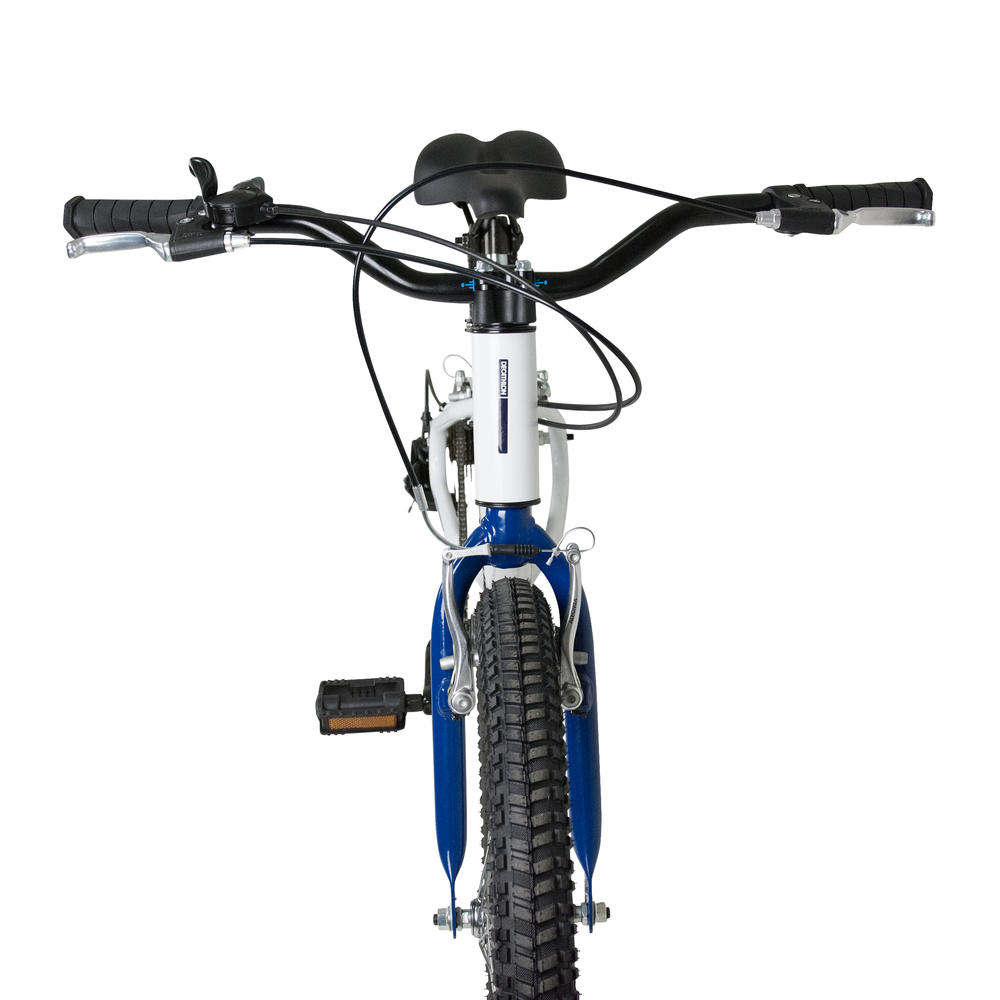Kids_bicycle: (59, 114, 944, 989)
